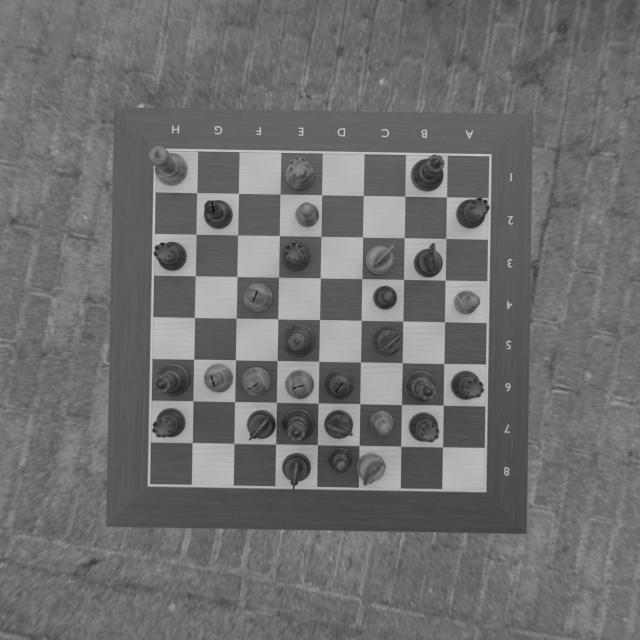chessboard: (151, 151, 492, 492)
